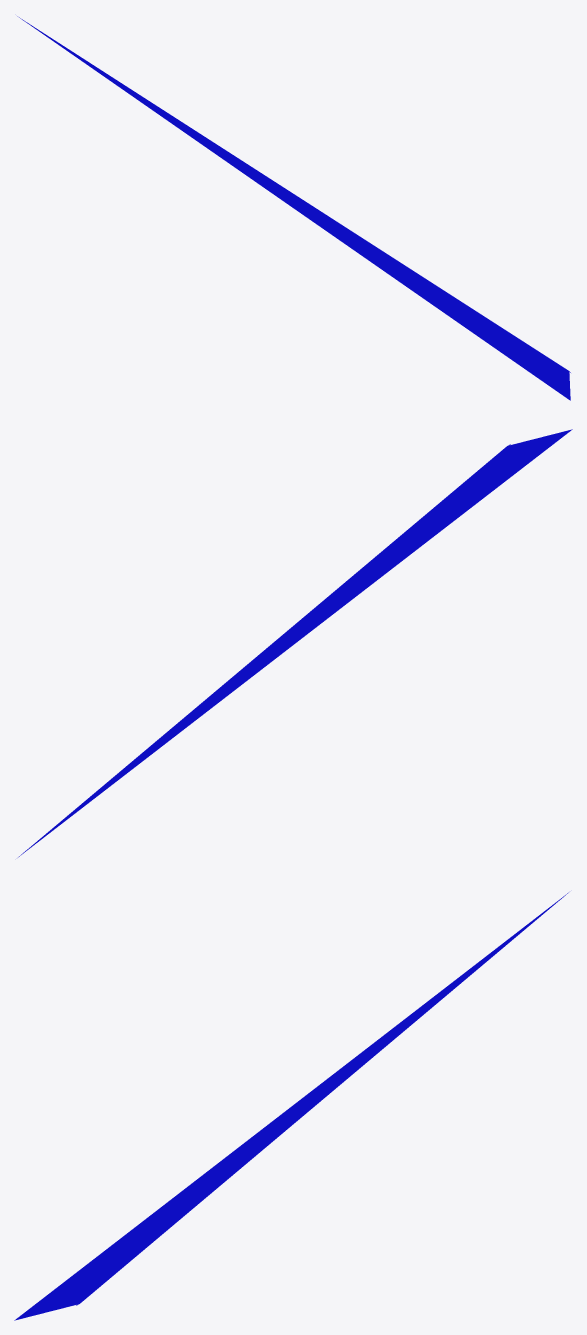
3 renders of one model, top to bottom at view 1: azimuth 30°, elevation 25°; view 2: azimuth 150°, elevation 25°; view 3: azimuth 330°, elevation 25°, orthographic. The views are drawn at different scales.
Bounding box in the file's own units: 1370 × 0 × 10146.
